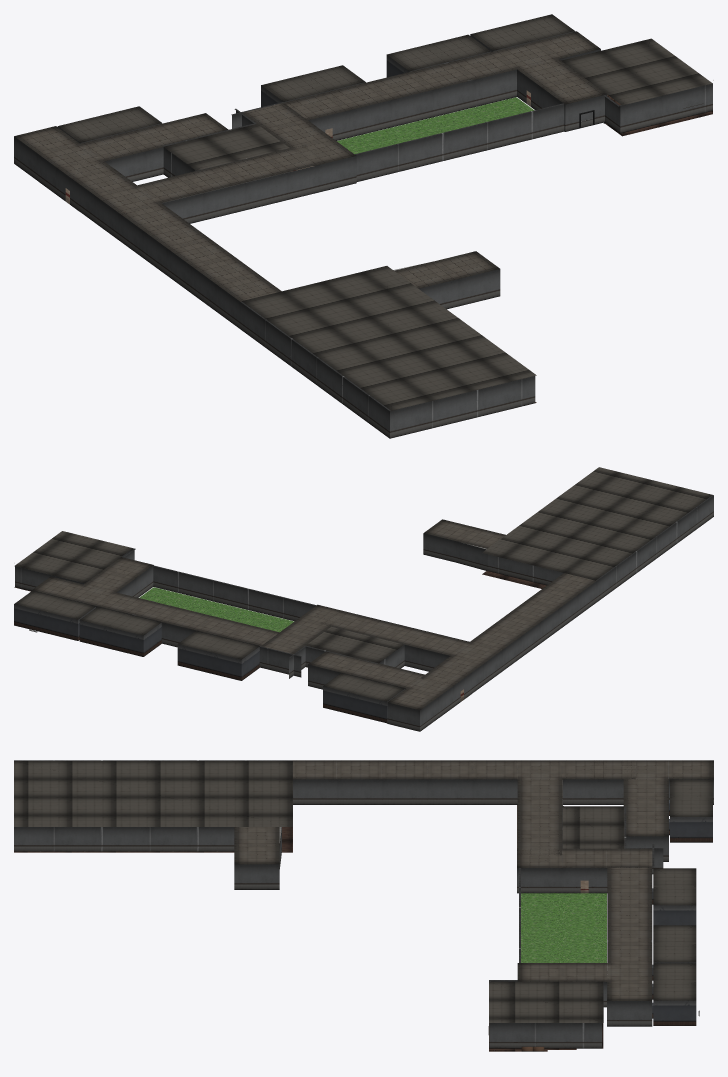
The picture shows the model from 3 angles, top to bottom: view 1: azimuth 30°, elevation 25°; view 2: azimuth 150°, elevation 25°; view 3: azimuth 270°, elevation 25°; orthographic projection. The views are drawn at different scales.
Parts seen in each view (by area): view 1: Floor-Wood-col.005, Wall_DEV-col.015, Floor-Wood-col.004, Wall_DEV-col.010, Wall_DEV-col.011, Plane, Floor-Wood-col.003, Classroom1_DEV-col.002, Classroom3_DEV-col.004, Classroom3_DEV-col.003, Classroom2_DEV-col.002, Wall_DEV-col.002 (+54 smaller); view 2: Floor-Wood-col.005, Floor-Wood-col.004, Wall_DEV-col.015, Wall_DEV-col.010, Plane, Floor-Wood-col.003, Classroom2_DEV-col.001, Classroom1_DEV-col.001, Classroom3_DEV-col.001, Classroom3_DEV-col.002, Wall_DEV-col.013, Classroom2_DEV-col.002 (+48 smaller); view 3: Floor-Wood-col.005, Plane, Wall_DEV-col.012, Floor-Wood-col.004, Wall_DEV-col.003, Floor-Wood-col.003, Classroom3_DEV-col.003, Classroom2_DEV-col.002, Classroom1_DEV-col.002, Classroom3_DEV-col.004, Hall-Classroom-U7_DEV-col.001, Hall-I_DEV-col.007 (+44 smaller).
Boxes of the visible parts, x1=… form: Floor-Wood-col.005: x1=242, y1=266, x2=536, y2=410; Wall_DEV-col.015: x1=355, y1=103, x2=564, y2=181; Floor-Wood-col.004: x1=561, y1=38, x2=712, y2=105; Wall_DEV-col.010: x1=240, y1=301, x2=390, y2=438; Wall_DEV-col.011: x1=390, y1=376, x2=535, y2=438; Plane: x1=337, y1=97, x2=533, y2=154; Floor-Wood-col.003: x1=163, y1=124, x2=289, y2=170; Classroom1_DEV-col.002: x1=261, y1=65, x2=365, y2=101; Classroom3_DEV-col.004: x1=58, y1=106, x2=161, y2=142; Classroom3_DEV-col.003: x1=470, y1=14, x2=574, y2=50; Classroom2_DEV-col.002: x1=387, y1=34, x2=490, y2=71; Wall_DEV-col.002: x1=662, y1=83, x2=712, y2=123; Floor-Wood-col.005: x1=482, y1=467, x2=712, y2=580; Floor-Wood-col.004: x1=15, y1=531, x2=132, y2=583; Wall_DEV-col.015: x1=153, y1=565, x2=316, y2=621; Wall_DEV-col.010: x1=596, y1=495, x2=713, y2=601; Plane: x1=139, y1=587, x2=294, y2=632; Floor-Wood-col.003: x1=306, y1=626, x2=404, y2=663; Classroom2_DEV-col.001: x1=79, y1=620, x2=161, y2=656; Classroom1_DEV-col.001: x1=177, y1=644, x2=259, y2=680; Classroom3_DEV-col.001: x1=14, y1=604, x2=95, y2=640; Classroom3_DEV-col.002: x1=323, y1=686, x2=404, y2=723; Wall_DEV-col.013: x1=488, y1=554, x2=563, y2=585; Classroom2_DEV-col.002: x1=80, y1=607, x2=160, y2=635; Floor-Wood-col.005: x1=14, y1=761, x2=292, y2=826; Plane: x1=521, y1=893, x2=606, y2=962; Wall_DEV-col.012: x1=14, y1=827, x2=234, y2=851; Floor-Wood-col.004: x1=489, y1=981, x2=603, y2=1022; Wall_DEV-col.003: x1=489, y1=1023, x2=601, y2=1048; Floor-Wood-col.003: x1=562, y1=806, x2=624, y2=848; Classroom3_DEV-col.003: x1=652, y1=963, x2=696, y2=1005; Classroom2_DEV-col.002: x1=652, y1=925, x2=696, y2=967; Classroom1_DEV-col.002: x1=652, y1=868, x2=696, y2=905; Classroom3_DEV-col.004: x1=669, y1=779, x2=712, y2=822; Hall-Classroom-U7_DEV-col.001: x1=607, y1=1001, x2=652, y2=1026; Hall-I_DEV-col.007: x1=472, y1=779, x2=517, y2=804.
Bounding box in the file's own units: 116 × 5.64 × 124.
39 materials, 39 textured.
